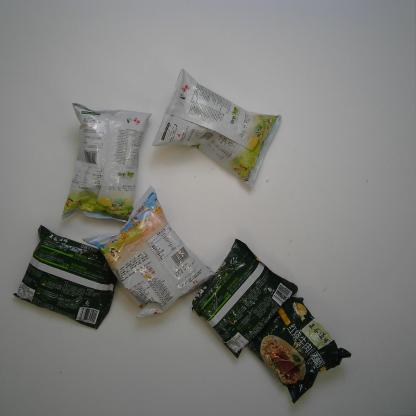Instant Noodles: (191, 236, 300, 358), (246, 291, 354, 405), (12, 222, 118, 331)
Puffed Food: (80, 183, 218, 320), (150, 66, 284, 190), (58, 100, 152, 226)
